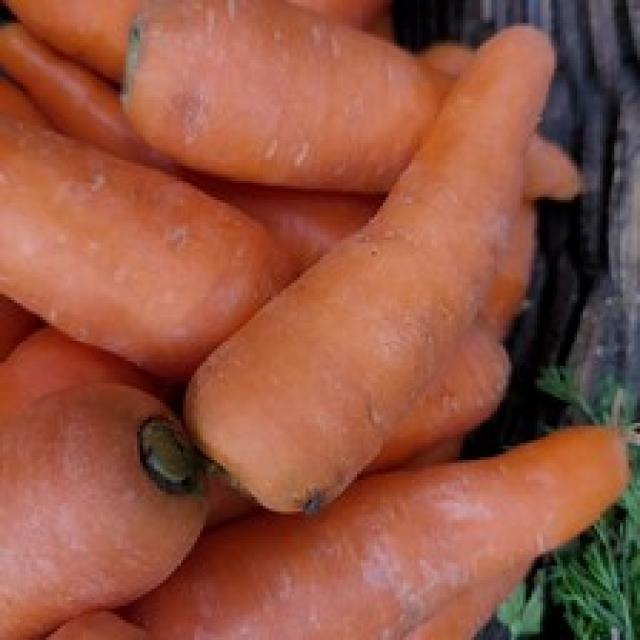Fresh_Carrot: (193, 22, 554, 515), (133, 418, 630, 640), (126, 4, 585, 210), (0, 119, 284, 383), (0, 385, 217, 640)
